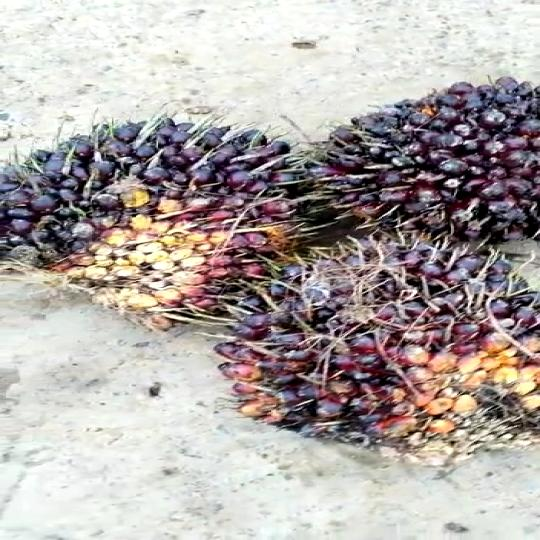kurang masak: (188, 260, 540, 468), (0, 104, 316, 334), (308, 76, 540, 239)
